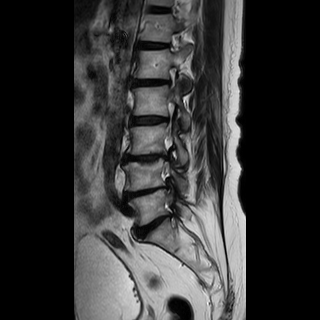LFS0: (160, 59, 185, 93)
